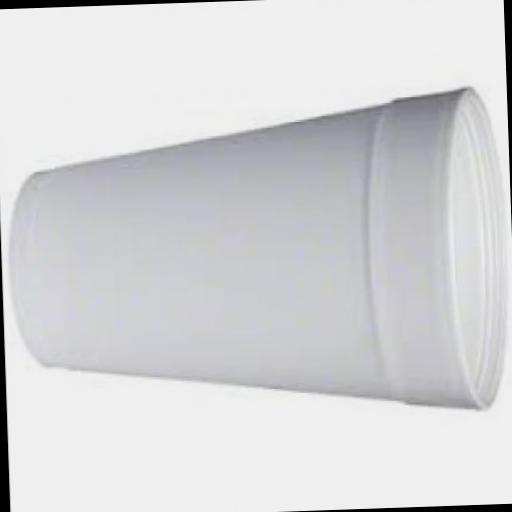paper: (4, 82, 510, 422)
